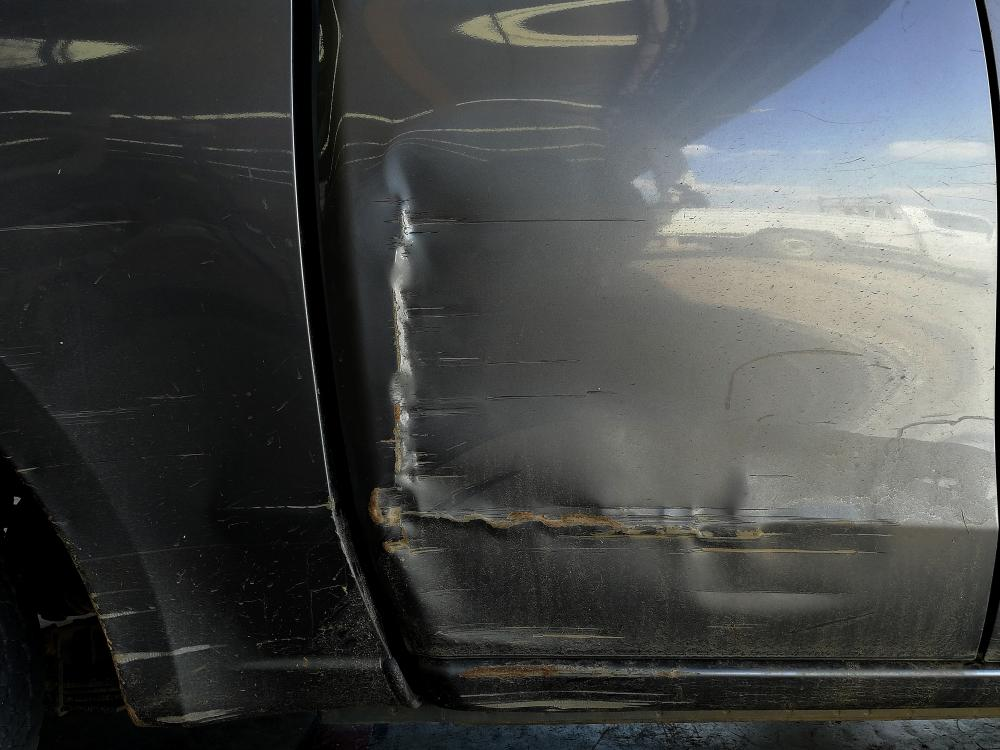dent: (369, 144, 904, 655)
scratch: (90, 589, 250, 730), (452, 689, 686, 714)
